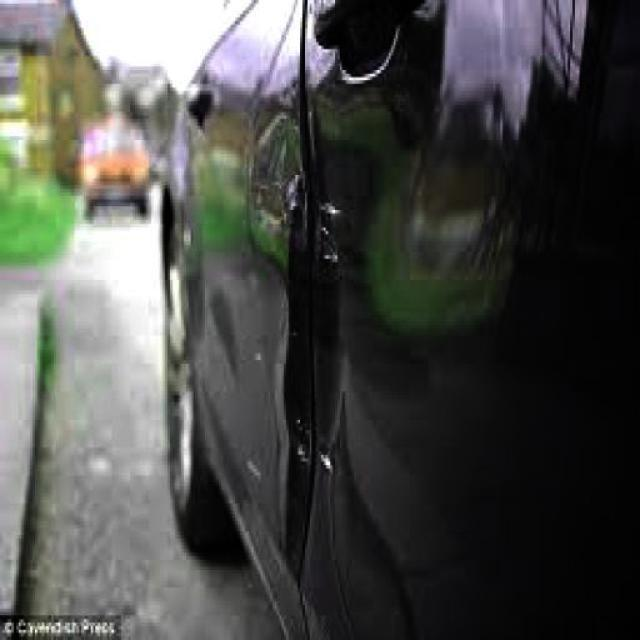car damage: (254, 104, 368, 593)
